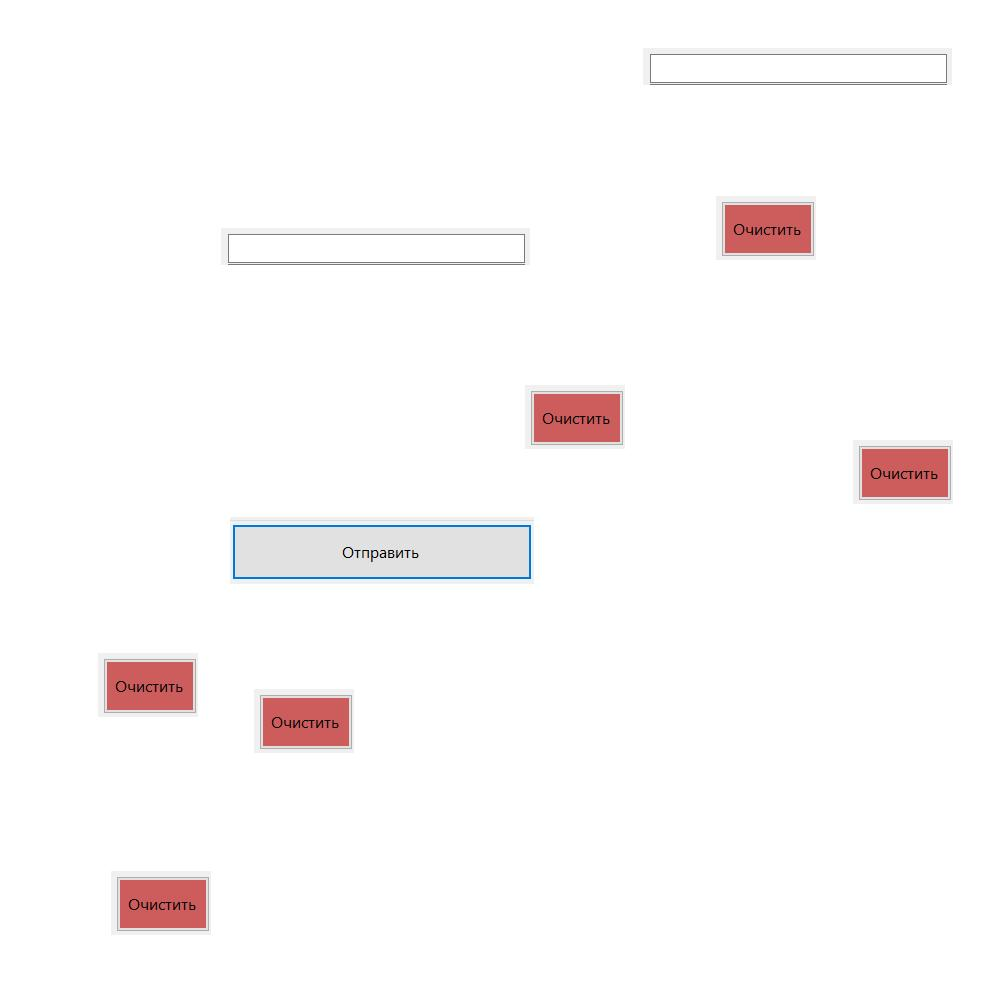Button: (230, 517, 534, 584), (111, 871, 211, 935), (716, 196, 816, 260), (254, 689, 354, 753), (525, 385, 625, 449), (853, 440, 953, 504), (98, 653, 198, 717)
EditText-: (221, 228, 530, 265), (643, 48, 952, 85)
